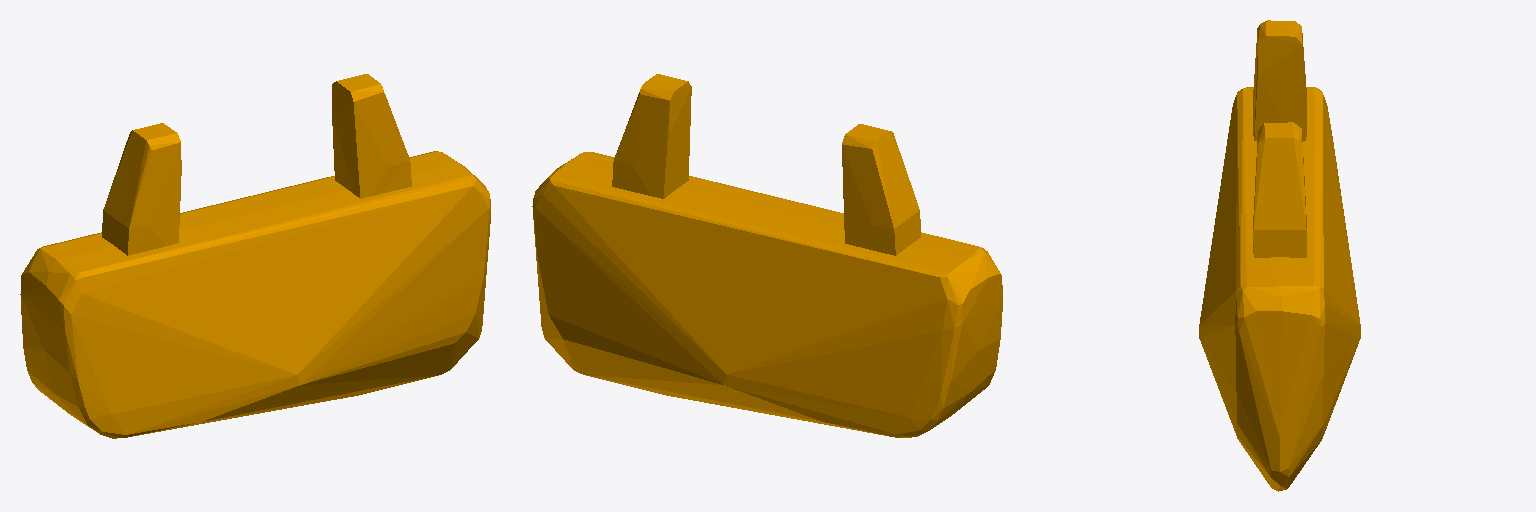
robot.urdf — panda_gripper:
<?xml version="1.0"?>
<robot name="panda_gripper">
  <link name="gripper">
    <visual>
      <origin rpy="0.0 0.0 0.0" xyz="0 0 0.0"/>
      <geometry>
        <mesh filename="meshes/visual/graspnet_panda_mesh.obj"/>

      </geometry>
    </visual>
    <collision>
      <origin rpy="0.0 0.0 0.0" xyz="0 0 0.0"/>
      <geometry>
        <!--box size="0.01 0.01 0.01"/-->
        
        <mesh filename="meshes/visual/graspnet_panda_mesh.obj"/>
        <!--mesh filename="meshes/collision/hand_gripper.obj"/-->
      </geometry>
    </collision>

    <inertial>
      <mass value="0.102"/>
      <inertia ixx="0.0001" ixy="0.0" ixz="0.0" iyy="0.0001" iyz="0.0" izz="0.0001"/>
    </inertial>
  </link>
</robot>

--- What the picture shows (computed from the rendered views, not written in the file) ---
Views: 3 orthographic renders of the robot side by side, from view 1: azimuth 30°, elevation 25°; view 2: azimuth 150°, elevation 25°; view 3: azimuth 270°, elevation 25°.
Model panda_gripper with 1 links and 0 joints (none), rooted at gripper, posed all joints at 0.
Visible links, largest first — view 1: gripper; view 2: gripper; view 3: gripper.
Boxes of the visible links, x1,y1,x2,y2 form: gripper: (20, 74, 490, 438); gripper: (532, 74, 1002, 437); gripper: (1199, 20, 1360, 491).
Bounding box of the posed robot: 0.2044 × 0.0633 × 0.1382 m (x, y, z).
Meshes: 1 distinct files referenced, 1 mesh visuals loaded (1 OBJ).